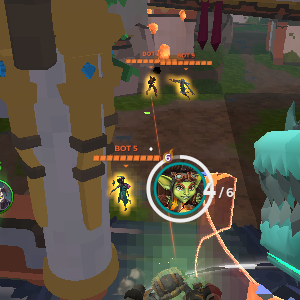model: (111, 173, 133, 213), (175, 74, 193, 100), (143, 72, 159, 99)
